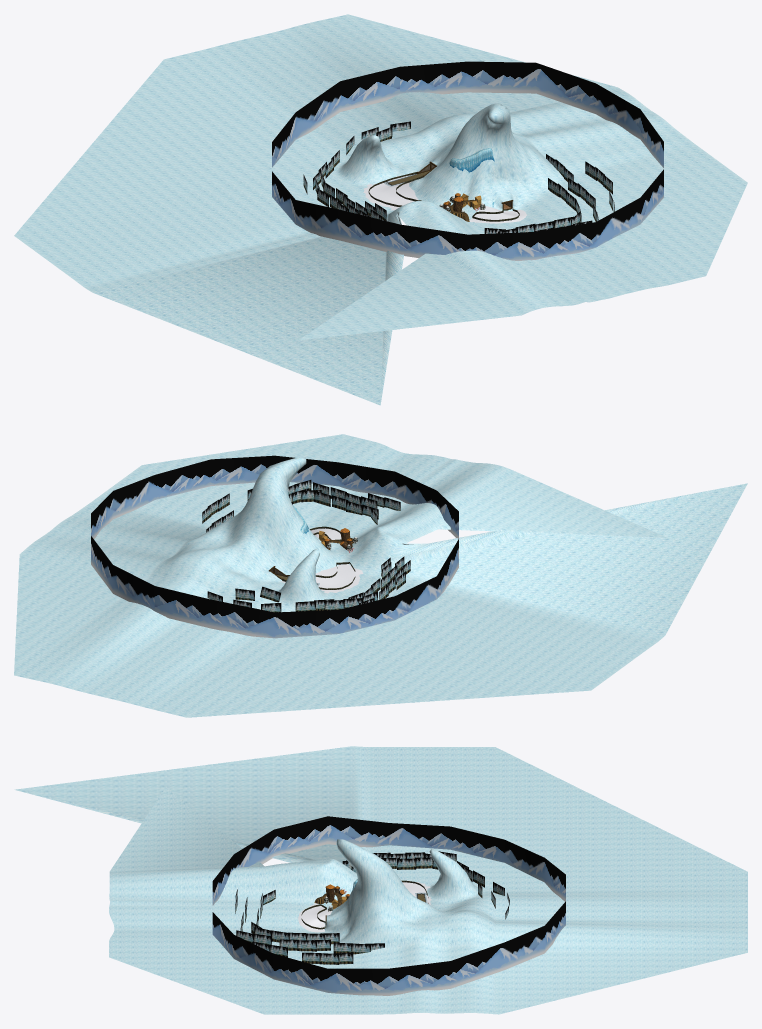
3 renders of one model, top to bottom at view 1: azimuth 30°, elevation 25°; view 2: azimuth 150°, elevation 25°; view 3: azimuth 270°, elevation 25°, orthographic. The views are drawn at different scales.
Visible parts, largest first — view 1: OutsideSnow, BG_Mountain, BG_Trees.001, Object004; view 2: OutsideSnow, BG_Mountain, BG_Trees.001, Object004; view 3: OutsideSnow, BG_Mountain, BG_Trees.001, Object004.
Part boxes in pixels (x1,y1,x2,y2): OutsideSnow: (14, 14, 747, 405); BG_Mountain: (272, 61, 663, 260); BG_Trees.001: (303, 121, 614, 233); Object004: (363, 173, 526, 223); OutsideSnow: (14, 434, 747, 717); BG_Mountain: (91, 455, 458, 638); BG_Trees.001: (202, 480, 410, 612); Object004: (280, 528, 363, 593); OutsideSnow: (14, 746, 747, 1014); BG_Mountain: (212, 816, 565, 995); BG_Trees.001: (235, 851, 509, 964); Object004: (298, 880, 431, 932).
Bounding box in the file's own units: 260228 × 49939 × 302599.
22 materials, 22 textured.
